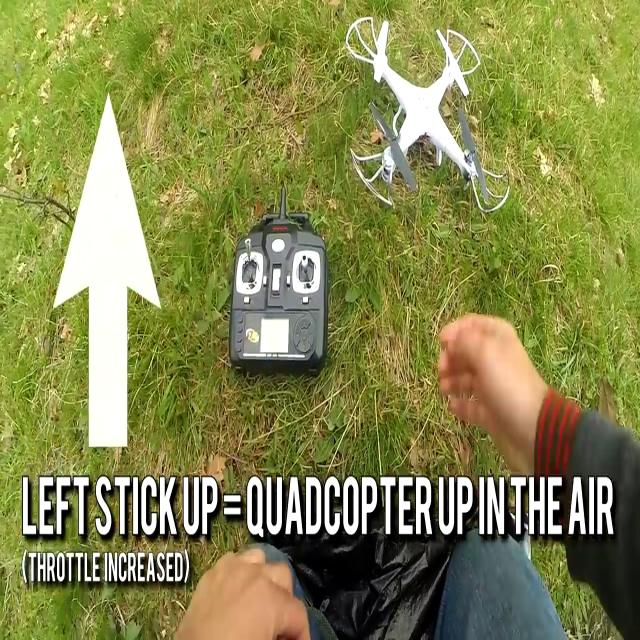drones: (343, 9, 516, 235)
